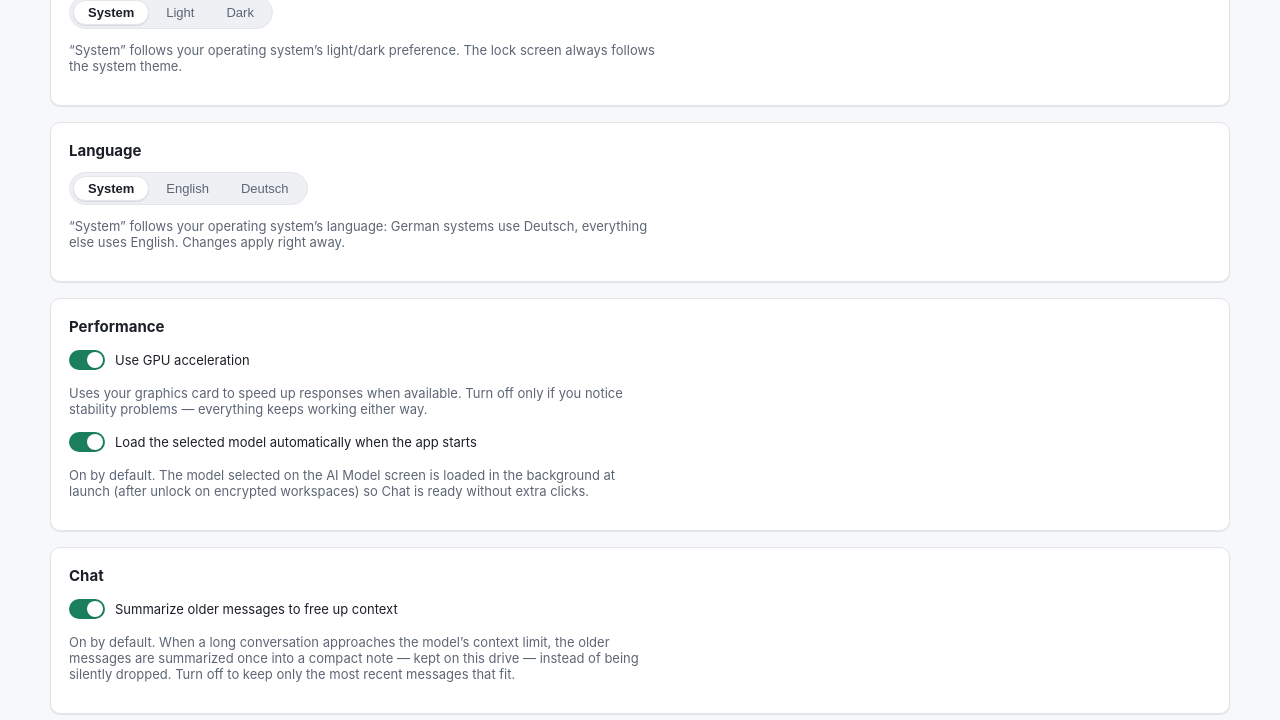
Test: Settings → General — Use GPU acceleration (Phase 16) › toasts a failed save and keeps the switch on the server state (no unhandled rejection)
(page scrolled)
Click the switch labelled "Use GPU acceleration": [159, 360] box [69,350,250,370]
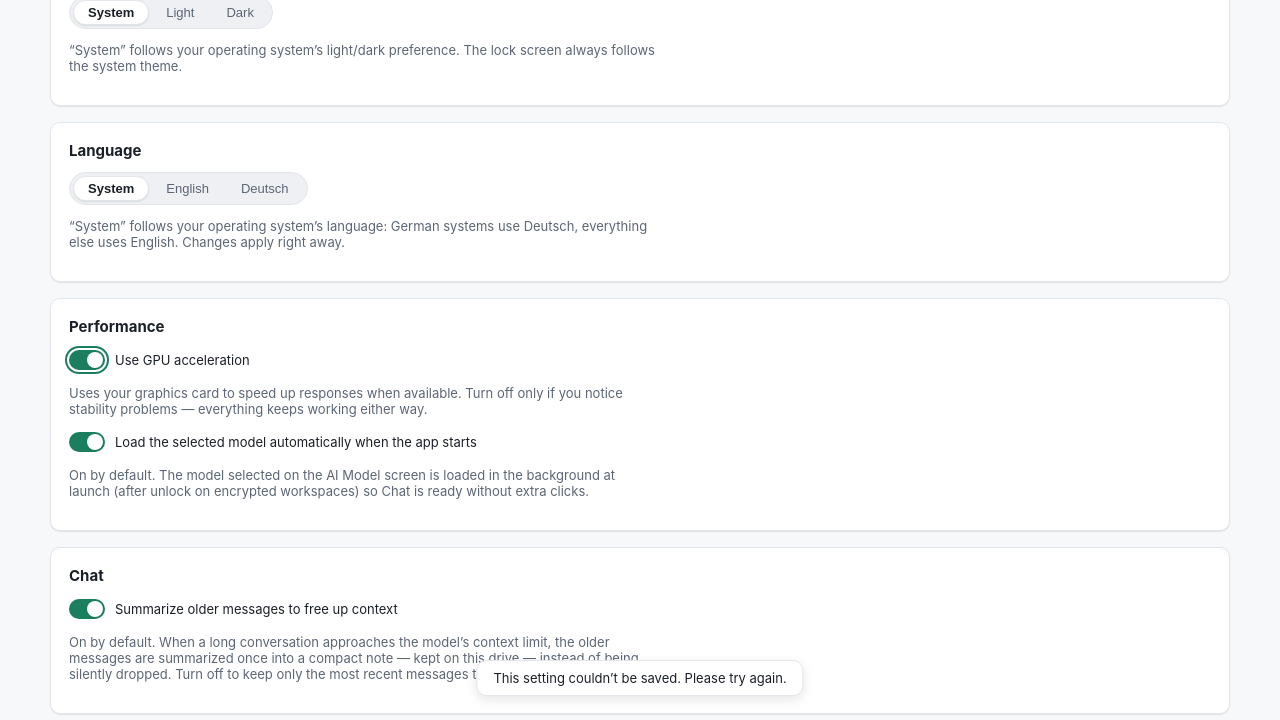
expect the text "This setting couldn’t be saved. Please try again." is shown: met, box [476,660,804,696]
